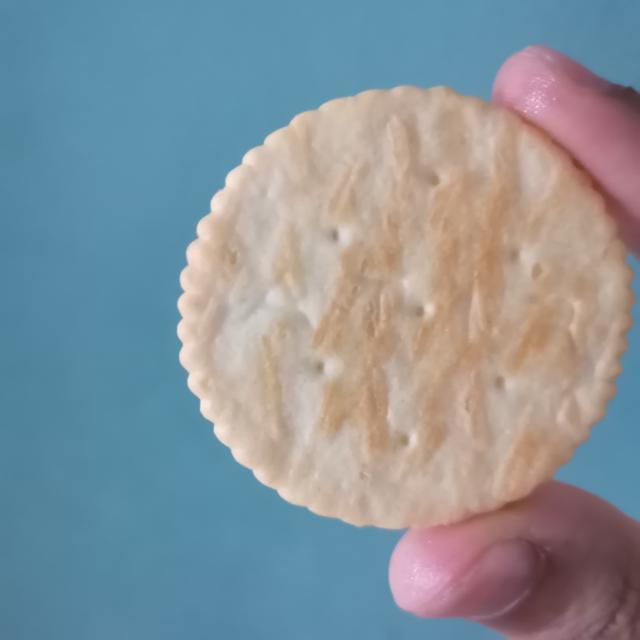Intact: (166, 81, 637, 537)
